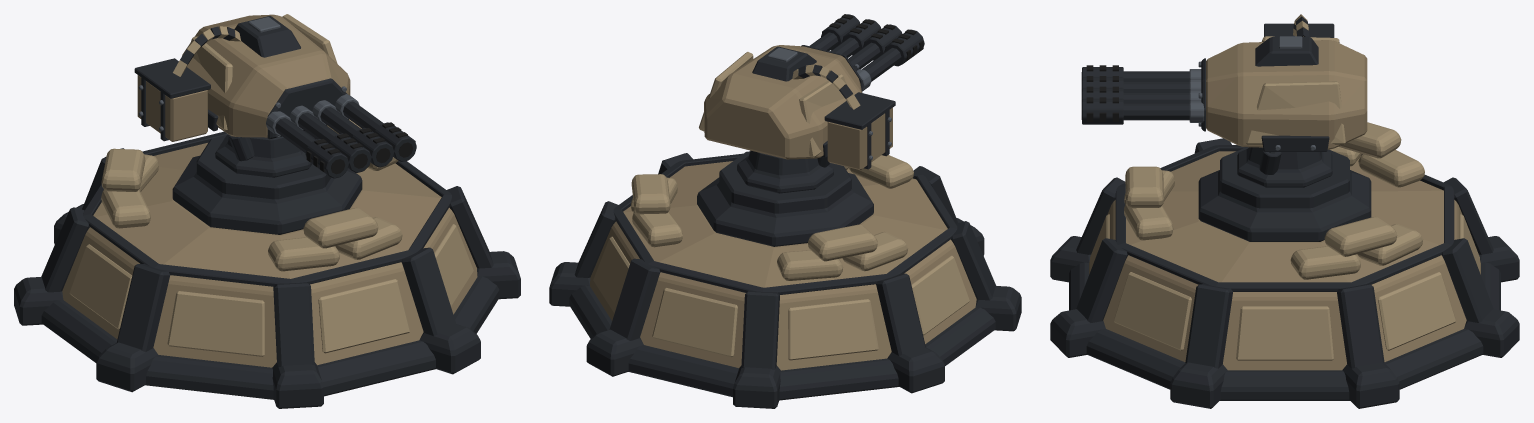
3 renders of one model, left to right at view 1: azimuth 30°, elevation 25°; view 2: azimuth 150°, elevation 25°; view 3: azimuth 270°, elevation 25°, orthographic. The views are drawn at different scales.
Parts seen in each view (by area): view 1: casco, gun_pitch, turret_yaw; view 2: casco, gun_pitch, turret_yaw; view 3: casco, gun_pitch, turret_yaw.
Part boxes in pixels (left/top/right/bottom): casco: left=14, top=119, right=520, bottom=408; gun_pitch: left=134, top=14, right=416, bottom=178; turret_yaw: left=215, top=131, right=315, bottom=177; casco: left=549, top=151, right=1021, bottom=408; gun_pitch: left=699, top=14, right=924, bottom=170; turret_yaw: left=737, top=150, right=833, bottom=193; casco: left=1050, top=122, right=1519, bottom=408; gun_pitch: left=1081, top=14, right=1367, bottom=151; turret_yaw: left=1237, top=147, right=1332, bottom=187.
Bounding box in the file's own units: 1 × 0.6396 × 1.
